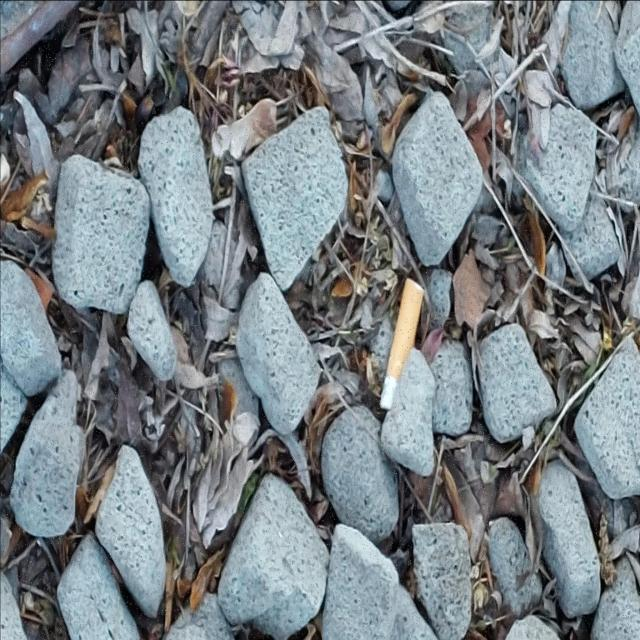other waste: (379, 275, 425, 409)
